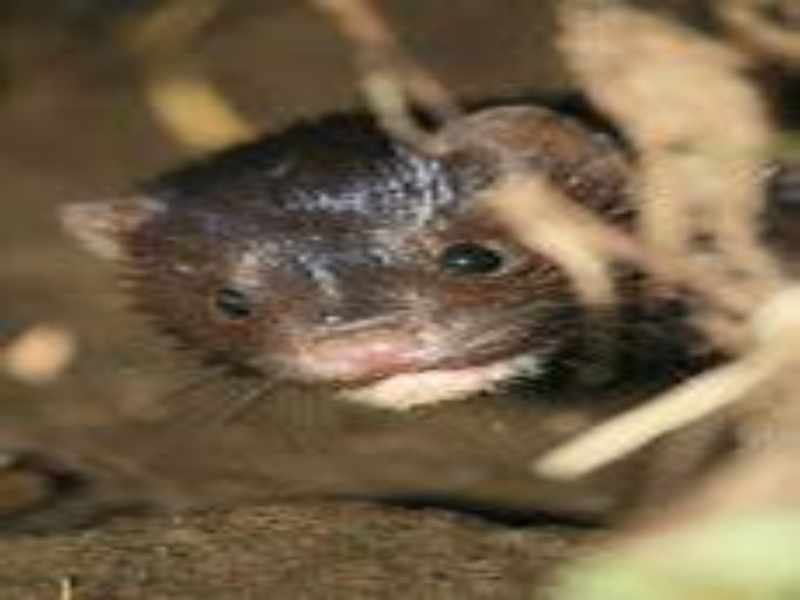minkish: (56, 84, 800, 436)
